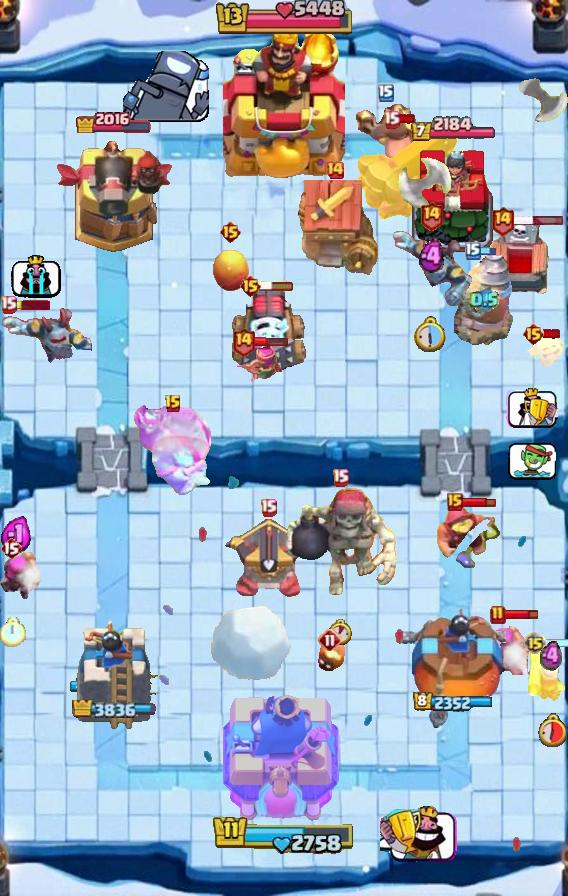bat-evolution: (526, 330, 568, 368)
bomber: (315, 642, 345, 674)
cannon: (232, 344, 284, 384)
clock: (212, 814, 356, 856), (213, 0, 355, 38)
electro-giant: (281, 487, 399, 599)
electro-spirit: (0, 516, 34, 554), (419, 238, 444, 273), (470, 287, 499, 313), (540, 640, 562, 672)
elixir: (414, 315, 448, 353), (538, 713, 566, 747), (0, 617, 26, 647), (329, 619, 352, 645)
elixir-golem-mid: (485, 217, 555, 303)
elixir-golem-small: (0, 306, 96, 376), (389, 228, 473, 306)
emote: (512, 215, 564, 226), (504, 608, 540, 621), (259, 280, 295, 292), (460, 496, 495, 508), (254, 336, 289, 347), (14, 300, 50, 310), (544, 638, 567, 650), (398, 113, 418, 125), (542, 328, 562, 340), (479, 245, 497, 257)
fireball: (435, 504, 503, 570)
freeze: (356, 102, 416, 172)
furnace: (351, 120, 461, 222)
golem: (228, 285, 308, 375)
hog: (211, 245, 249, 293)
king-tower: (223, 27, 345, 181), (223, 689, 345, 826)
lava-hound: (132, 402, 214, 498)
lava-pup: (222, 517, 314, 599)
magic-archer: (454, 254, 514, 346)
queen-tower: (400, 603, 506, 731), (70, 616, 158, 731), (410, 144, 496, 255)
royal-giant: (397, 147, 453, 209), (512, 76, 568, 132)
selected: (411, 116, 498, 143), (75, 109, 153, 133), (413, 691, 493, 713), (71, 700, 156, 718)
skeleton: (123, 50, 209, 125), (380, 805, 458, 864), (11, 252, 61, 298), (506, 387, 559, 428), (508, 442, 557, 482)
sparky: (292, 179, 378, 277)
text: (419, 200, 444, 231), (490, 205, 515, 236), (231, 326, 256, 357), (318, 628, 342, 652), (523, 631, 547, 655), (219, 220, 242, 244), (239, 274, 262, 298), (523, 322, 546, 346), (0, 536, 22, 560), (325, 160, 345, 180), (164, 394, 182, 414), (383, 111, 401, 130), (259, 498, 277, 517), (490, 605, 506, 625), (332, 469, 349, 487), (0, 295, 16, 314), (378, 84, 394, 102), (465, 242, 481, 260), (447, 493, 463, 511)
tombstone: (485, 619, 535, 675), (526, 645, 568, 703), (0, 549, 40, 603)
tower-bar: (53, 138, 175, 256)
wall-breaker: (208, 604, 292, 682)
